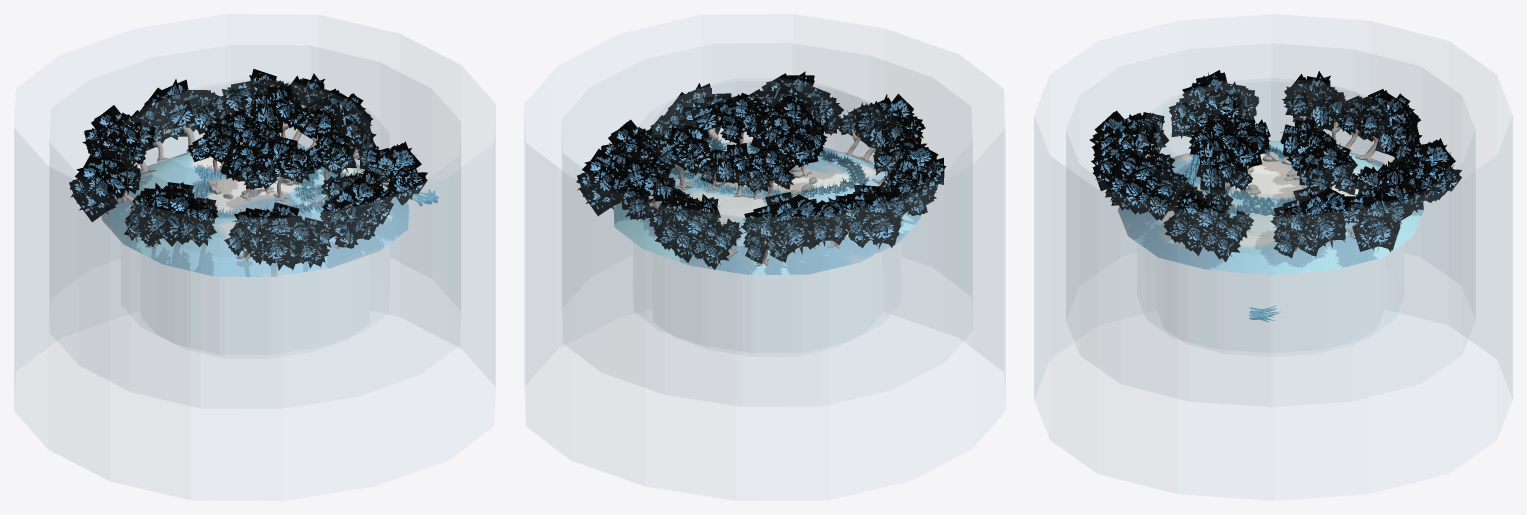
The model's file is vr_alien_forest_with_download.glb.
The picture shows the model from 3 angles, left to right: view 1: azimuth 30°, elevation 25°; view 2: azimuth 150°, elevation 25°; view 3: azimuth 270°, elevation 25°; orthographic projection.
Visible parts, largest first — view 1: Plane.038, Plane, Cube.044, Cube.080, Cube.043, Cube.079, Cube.084, Cube.049, Cube.073, Cube.085, Cube.074, Cube.068 (+15 smaller); view 2: Plane.038, Plane, Cube.091, Cube.074, Cube.073, Cube.044, Cube.043, Cube.090, Cube.068, Cube.084, Cube.079, Cube.080 (+17 smaller); view 3: Plane.038, Plane, Cube.090, Cube.084, Cube.085, Cube.074, Cube.079, Cube.068, Cube.043, Cube.080, Cube.073, Cube.091 (+16 smaller).
Boxes of the visible parts, x1=… form: Plane.038: x1=14, y1=45, x2=495, y2=408; Plane: x1=101, y1=142, x2=409, y2=276; Cube.044: x1=69, y1=150, x2=140, y2=222; Cube.080: x1=241, y1=202, x2=316, y2=270; Cube.043: x1=136, y1=182, x2=196, y2=246; Cube.079: x1=320, y1=169, x2=393, y2=232; Cube.084: x1=356, y1=141, x2=427, y2=205; Cube.049: x1=250, y1=136, x2=314, y2=201; Cube.073: x1=141, y1=79, x2=219, y2=152; Cube.085: x1=310, y1=88, x2=372, y2=148; Cube.074: x1=82, y1=105, x2=155, y2=173; Cube.068: x1=249, y1=83, x2=313, y2=137; Plane.038: x1=524, y1=43, x2=1005, y2=406; Plane: x1=613, y1=140, x2=920, y2=274; Cube.091: x1=608, y1=152, x2=678, y2=220; Cube.074: x1=744, y1=192, x2=821, y2=258; Cube.073: x1=654, y1=189, x2=720, y2=262; Cube.044: x1=835, y1=183, x2=911, y2=249; Cube.043: x1=873, y1=135, x2=946, y2=195; Cube.090: x1=576, y1=145, x2=637, y2=215; Cube.068: x1=651, y1=124, x2=713, y2=189; Cube.084: x1=665, y1=83, x2=737, y2=145; Cube.079: x1=761, y1=71, x2=836, y2=121; Cube.080: x1=852, y1=93, x2=925, y2=162; Plane.038: x1=1034, y1=14, x2=1512, y2=500; Plane: x1=1118, y1=140, x2=1423, y2=274; Cube.090: x1=1334, y1=186, x2=1411, y2=252; Cube.084: x1=1163, y1=182, x2=1233, y2=255; Cube.085: x1=1273, y1=185, x2=1351, y2=249; Cube.074: x1=1355, y1=89, x2=1420, y2=162; Cube.079: x1=1105, y1=147, x2=1175, y2=214; Cube.068: x1=1299, y1=141, x2=1359, y2=195; Cube.043: x1=1182, y1=70, x2=1258, y2=120; Cube.080: x1=1089, y1=110, x2=1160, y2=158; Cube.073: x1=1392, y1=138, x2=1461, y2=201; Cube.091: x1=1356, y1=159, x2=1425, y2=213.
Size of the model in its own units: 53.3 by 34.95 by 53.3.
8 materials, 4 textured.
